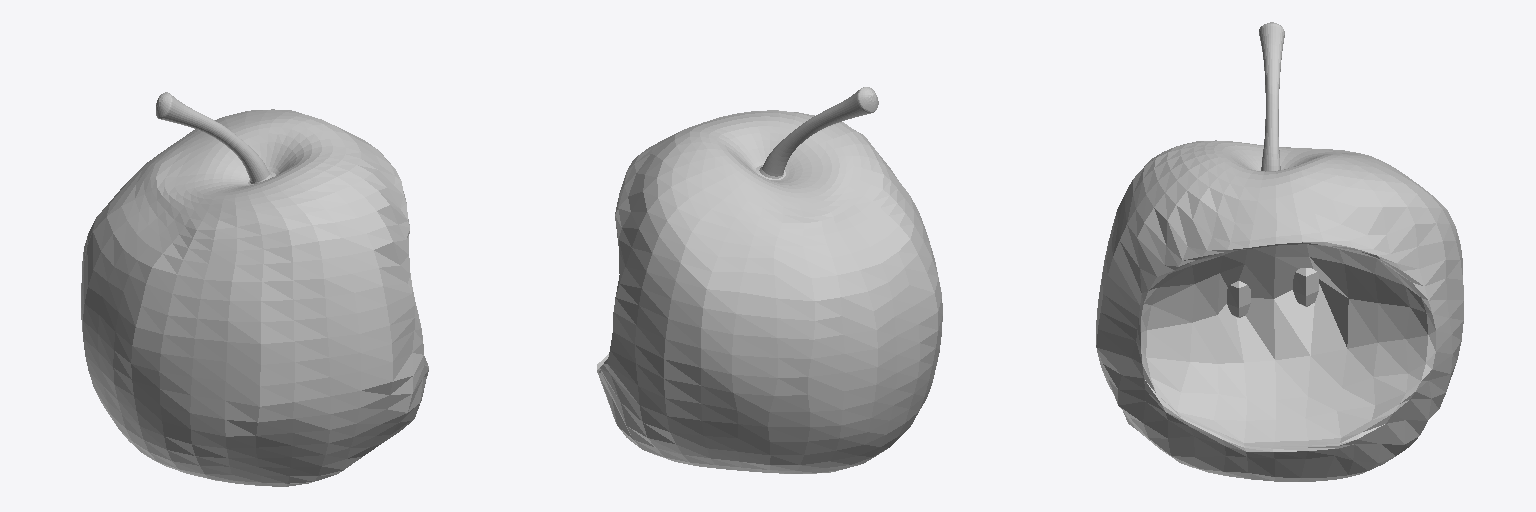
Rendered from Maça.obj.
3 renders of one model, left to right at view 1: azimuth 30°, elevation 25°; view 2: azimuth 150°, elevation 25°; view 3: azimuth 270°, elevation 25°, orthographic.
Parts seen in each view (by area): view 1: Esfera_UV.001_Esfera_UV.003; view 2: Esfera_UV.001_Esfera_UV.003; view 3: Esfera_UV.001_Esfera_UV.003.
Boxes of the visible parts, x1,y1,x2,y2 form: Esfera_UV.001_Esfera_UV.003: [81, 92, 428, 486]; Esfera_UV.001_Esfera_UV.003: [597, 87, 942, 473]; Esfera_UV.001_Esfera_UV.003: [1096, 22, 1463, 481].
Size of the model in its own units: 1.58 by 1.92 by 1.71.